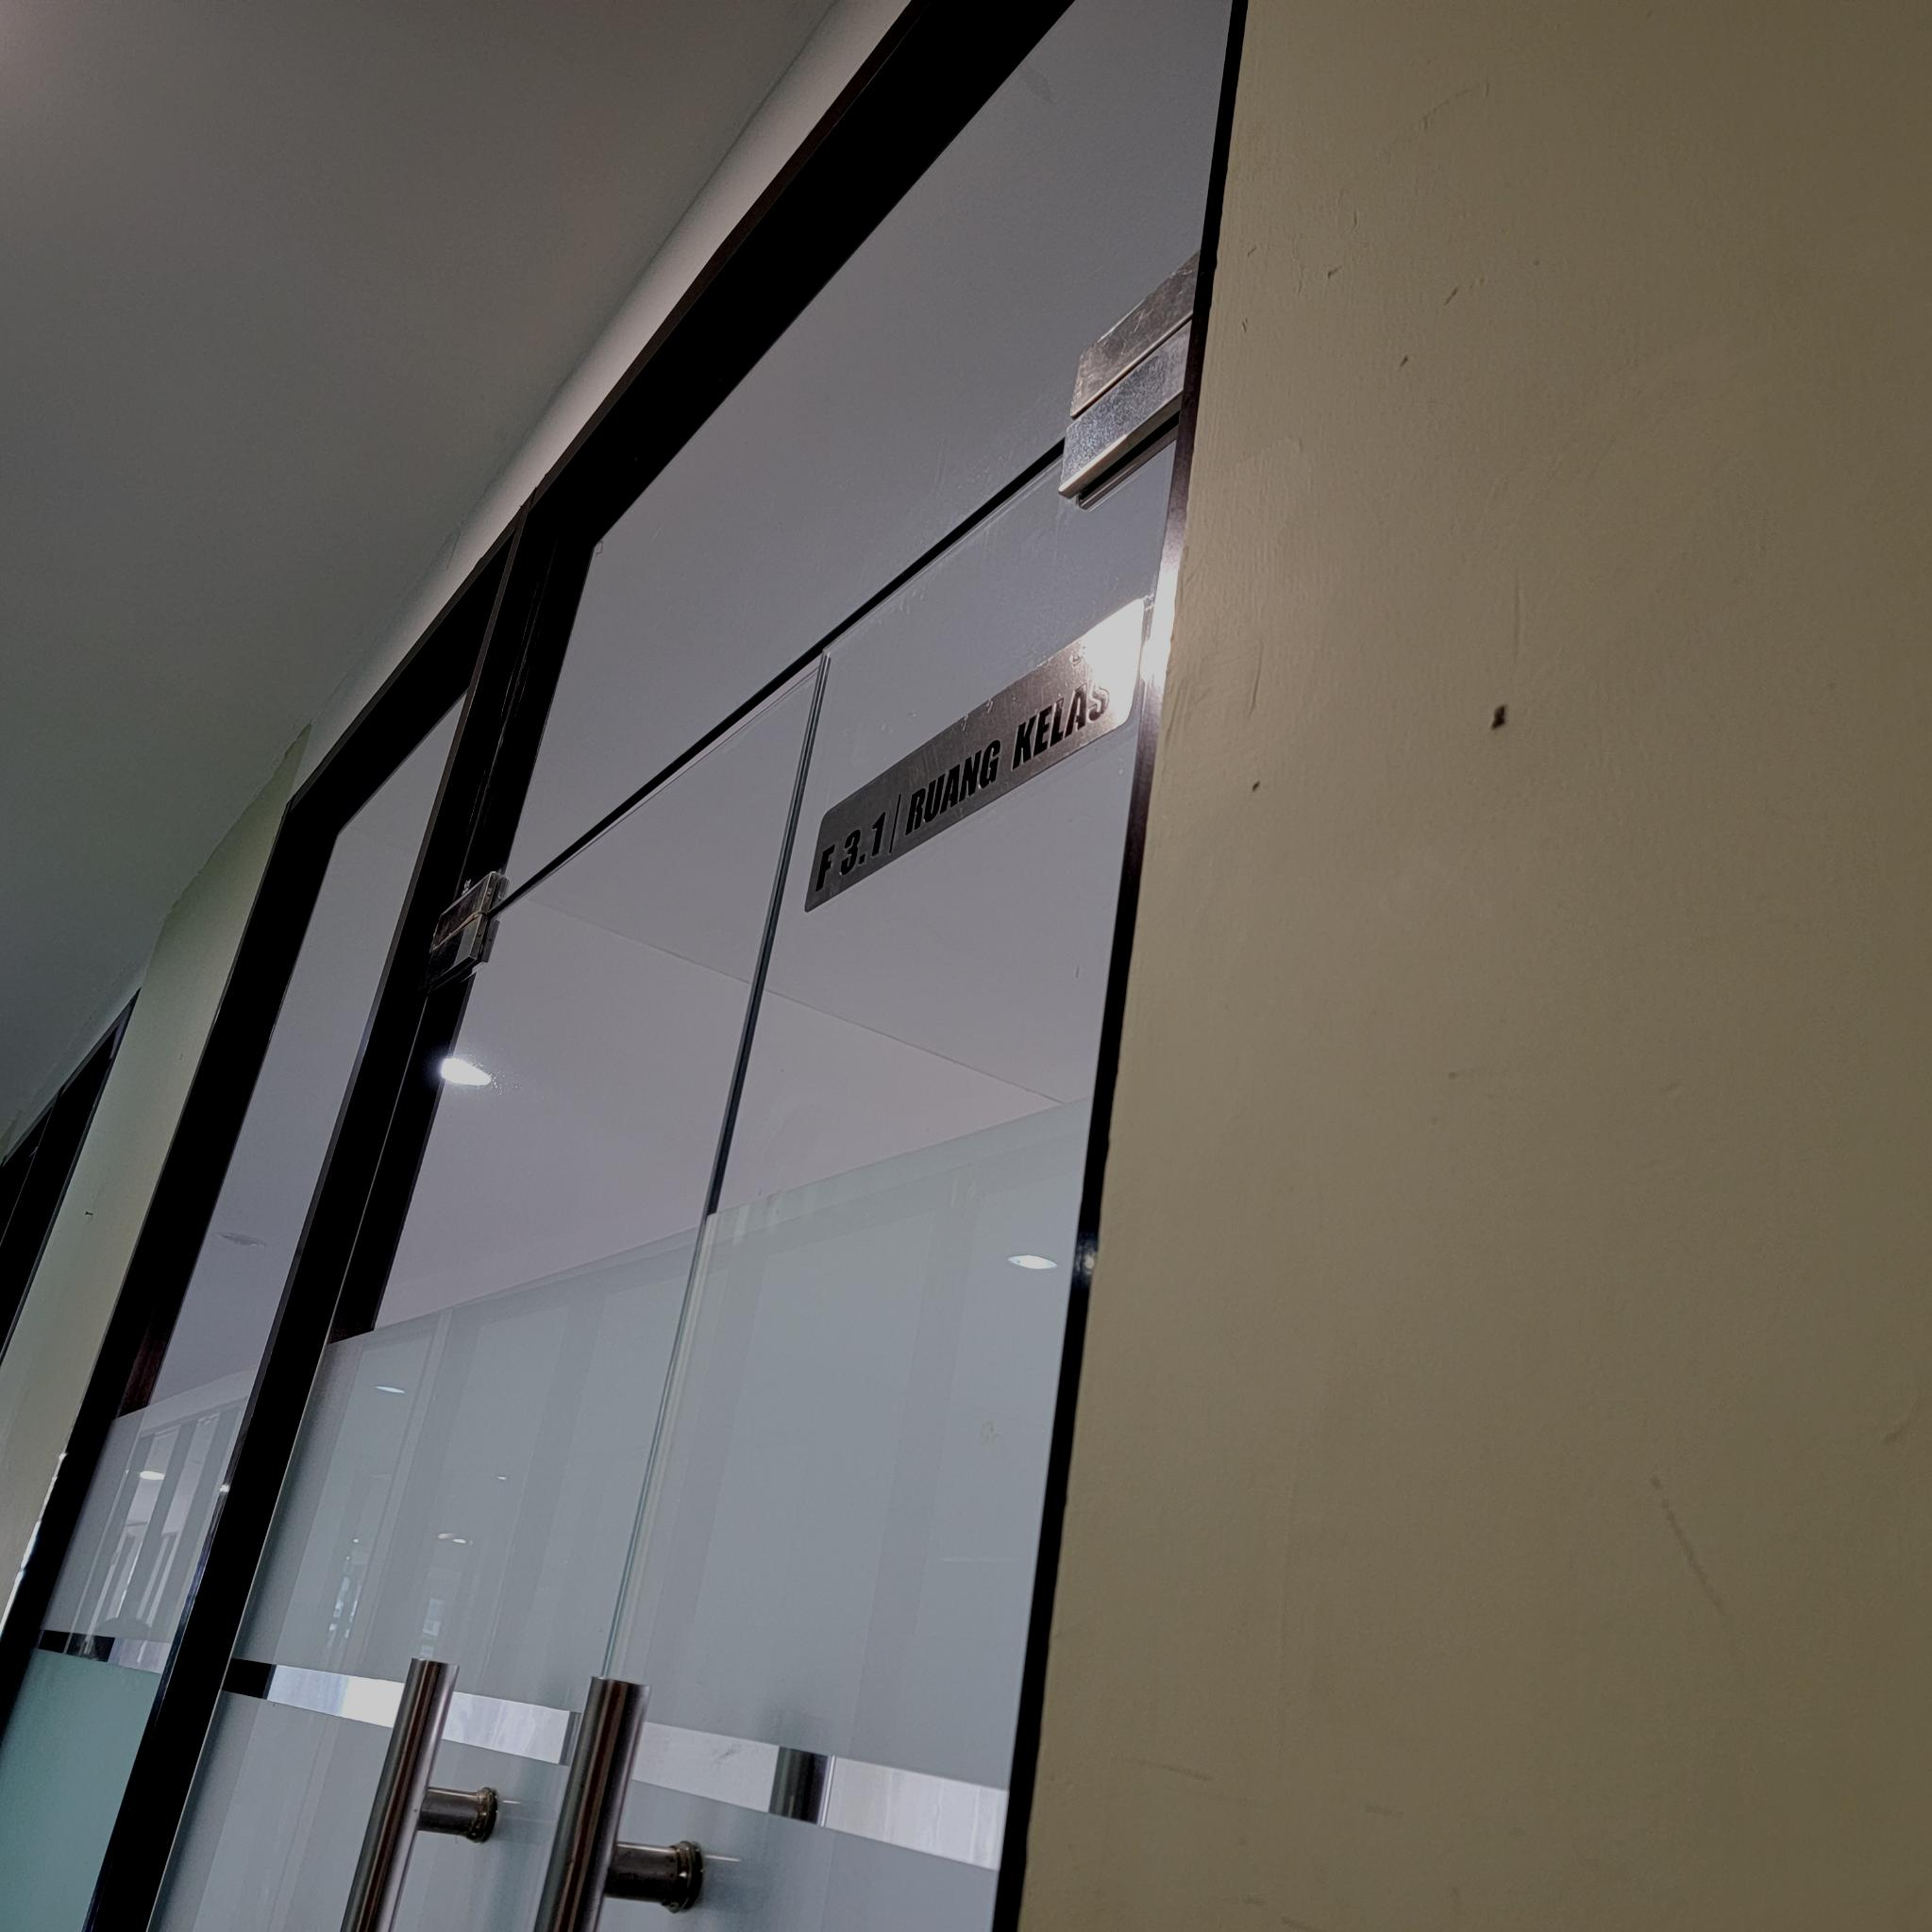plate: (801, 600, 1146, 918)
